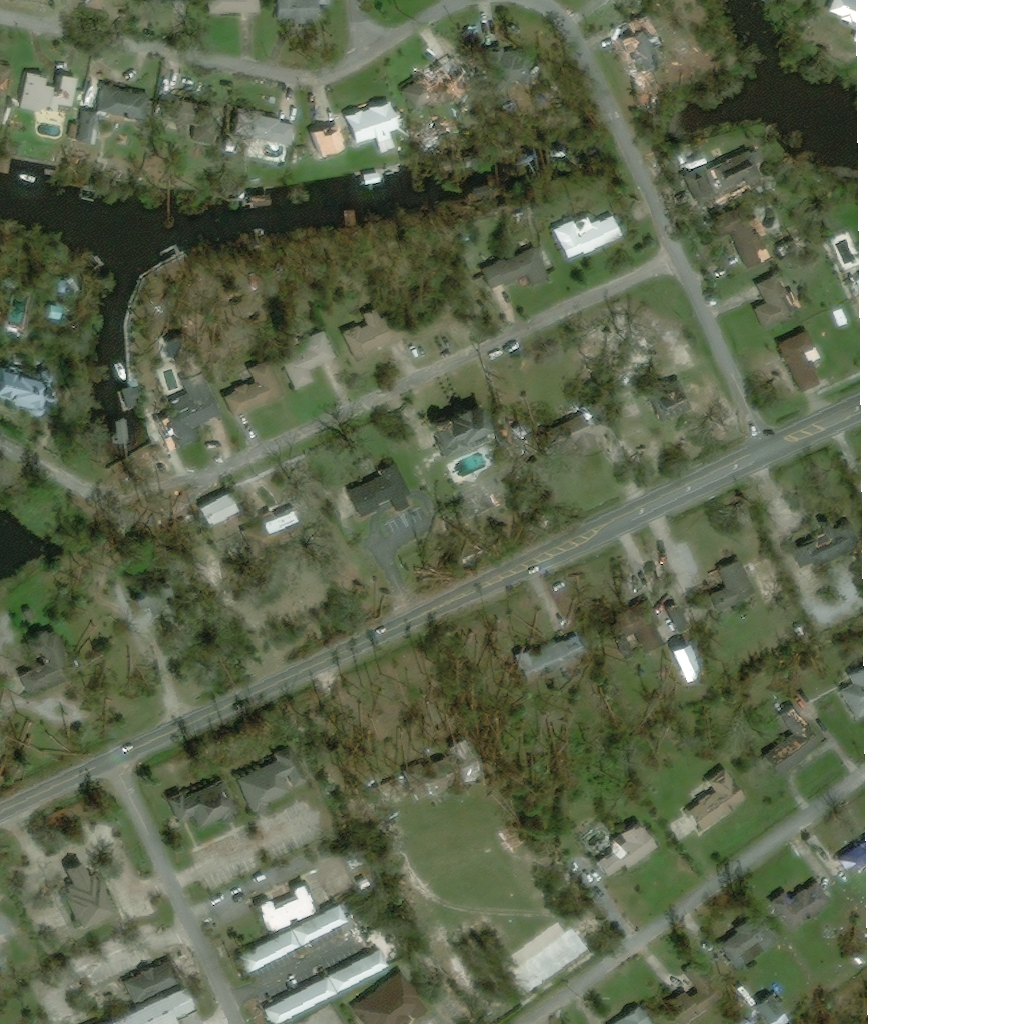destroyed: (401, 55, 466, 109), (501, 820, 535, 844)
major_damage: (684, 143, 765, 208), (766, 699, 823, 776), (611, 14, 661, 73)
minor_damage: (154, 336, 223, 452), (401, 738, 481, 801), (547, 213, 626, 265), (686, 768, 745, 831), (241, 494, 305, 552), (711, 209, 770, 269), (163, 779, 233, 829), (601, 597, 662, 653), (790, 522, 858, 572), (340, 307, 404, 357), (431, 405, 493, 456), (600, 821, 658, 873), (767, 883, 829, 931), (753, 273, 802, 329), (722, 914, 779, 960), (131, 570, 177, 619), (0, 366, 55, 406), (21, 73, 77, 109), (533, 634, 586, 671), (564, 399, 612, 427), (836, 839, 861, 877), (754, 994, 784, 1023), (0, 64, 12, 99)
no_damage: (237, 902, 354, 975), (233, 746, 301, 815), (696, 558, 762, 626), (348, 973, 423, 1023), (65, 858, 118, 927), (22, 630, 78, 695), (348, 461, 411, 518), (665, 962, 723, 1023), (250, 883, 317, 935), (221, 359, 279, 418), (107, 986, 197, 1023), (266, 978, 337, 1023), (280, 332, 335, 390), (481, 246, 549, 292), (344, 103, 399, 153), (331, 949, 392, 992), (778, 333, 821, 393), (162, 98, 216, 143), (121, 962, 178, 1004), (640, 376, 689, 420), (240, 111, 297, 145), (489, 49, 534, 91), (100, 84, 151, 119), (275, 0, 329, 27), (200, 493, 239, 527), (366, 530, 395, 563), (665, 602, 689, 632), (615, 1005, 653, 1023), (826, 0, 851, 27), (118, 381, 141, 410), (209, 0, 259, 13), (77, 109, 94, 143), (111, 420, 125, 446), (248, 194, 270, 207), (329, 131, 344, 150), (360, 172, 380, 186), (149, 0, 191, 2)
unclassified: (518, 928, 594, 996)
